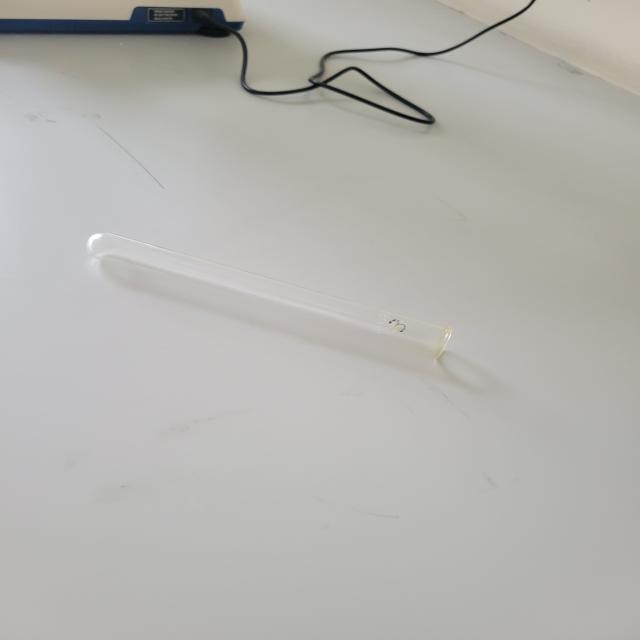Test_Tube: (56, 199, 502, 409)
